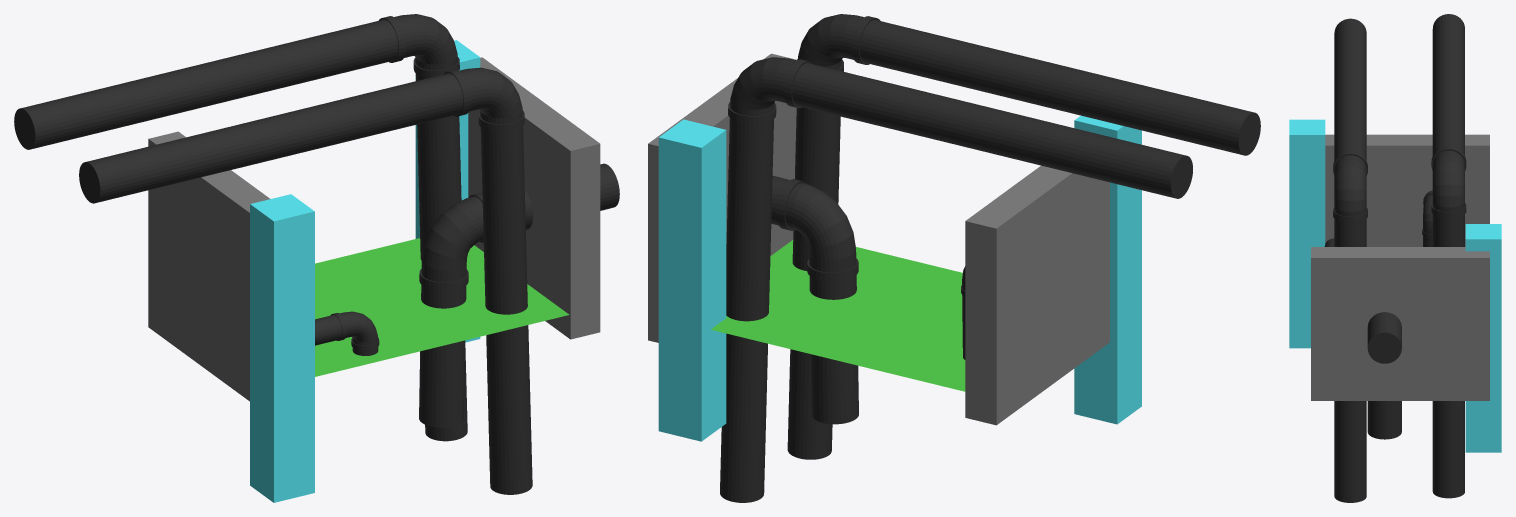
Rendered from TrenchSegPipe.fbx.
The picture shows the model from 3 angles, left to right: view 1: azimuth 30°, elevation 25°; view 2: azimuth 150°, elevation 25°; view 3: azimuth 270°, elevation 25°; orthographic projection. The views are drawn at different scales.
Parts seen in each view (by area): view 1: Cylinder.004, Cylinder.001, Cube.002, Cube, Cube.001, Plane, Cylinder, Cylinder.002, Cube.003; view 2: Cylinder.001, Cube.002, Cylinder.004, Cube.003, Plane, Cube, Cylinder, Cube.001; view 3: Cube.001, Cylinder.001, Cylinder.004, Cube.002, Cube, Cube.003, Cylinder, Cylinder.005.
Boxes of the visible parts, x1,y1,x2,y2 form: Cylinder.004: (79, 67, 532, 494); Cylinder.001: (14, 14, 467, 441); Cube.002: (148, 131, 269, 401); Cube: (250, 194, 314, 502); Cube.001: (468, 57, 600, 339); Plane: (315, 238, 569, 376); Cylinder: (419, 163, 619, 427); Cylinder.002: (315, 311, 379, 355); Cube.003: (415, 40, 480, 342); Cylinder.001: (720, 57, 1192, 502); Cube.002: (965, 165, 1109, 425); Cylinder.004: (787, 14, 1260, 459); Cube.003: (658, 119, 726, 441); Plane: (711, 240, 965, 391); Cube: (1074, 115, 1141, 424); Cylinder: (771, 175, 858, 424); Cube.001: (648, 53, 796, 342); Cube.001: (1311, 247, 1489, 400); Cylinder.001: (1431, 14, 1466, 498); Cylinder.004: (1333, 18, 1367, 502); Cube.002: (1325, 134, 1489, 246); Cube: (1289, 119, 1325, 348); Cube.003: (1465, 224, 1501, 452); Cylinder: (1367, 312, 1401, 439); Cylinder.005: (1422, 190, 1432, 246).
Size of the model in its own units: 1539 by 1178 by 690.
